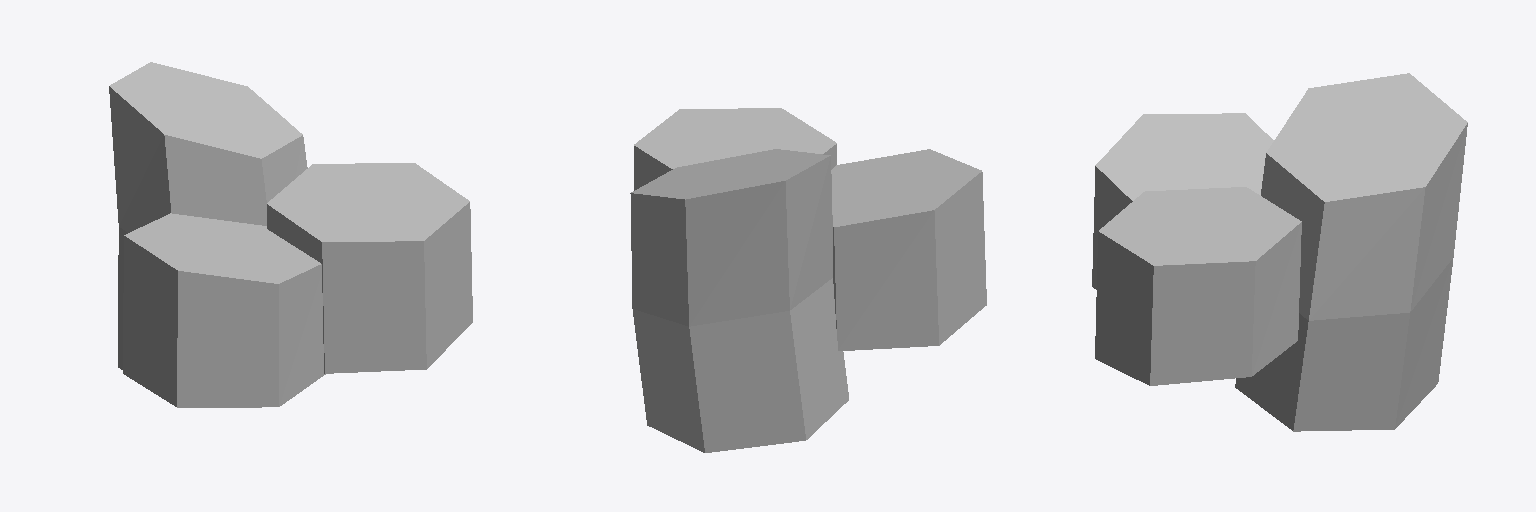
File: PurpleOre.obj
3 renders of one model, left to right at view 1: azimuth 30°, elevation 25°; view 2: azimuth 150°, elevation 25°; view 3: azimuth 270°, elevation 25°, orthographic.
Parts seen in each view (by area): view 1: group[number redacted], group[number redacted], group[number redacted]; view 2: group[number redacted], group[number redacted], group[number redacted]; view 3: group[number redacted], group[number redacted], group[number redacted].
Boxes of the visible parts, <box> form: group[number redacted]: <box>123,213,325,407</box>; group[number redacted]: <box>267,163,472,373</box>; group[number redacted]: <box>109,62,307,369</box>; group[number redacted]: <box>630,149,848,452</box>; group[number redacted]: <box>831,149,986,350</box>; group[number redacted]: <box>634,108,836,190</box>; group[number redacted]: <box>1235,73,1467,431</box>; group[number redacted]: <box>1095,187,1301,385</box>; group[number redacted]: <box>1092,113,1273,289</box>.
Size of the model in its own units: 0.1205 by 0.108 by 0.129.